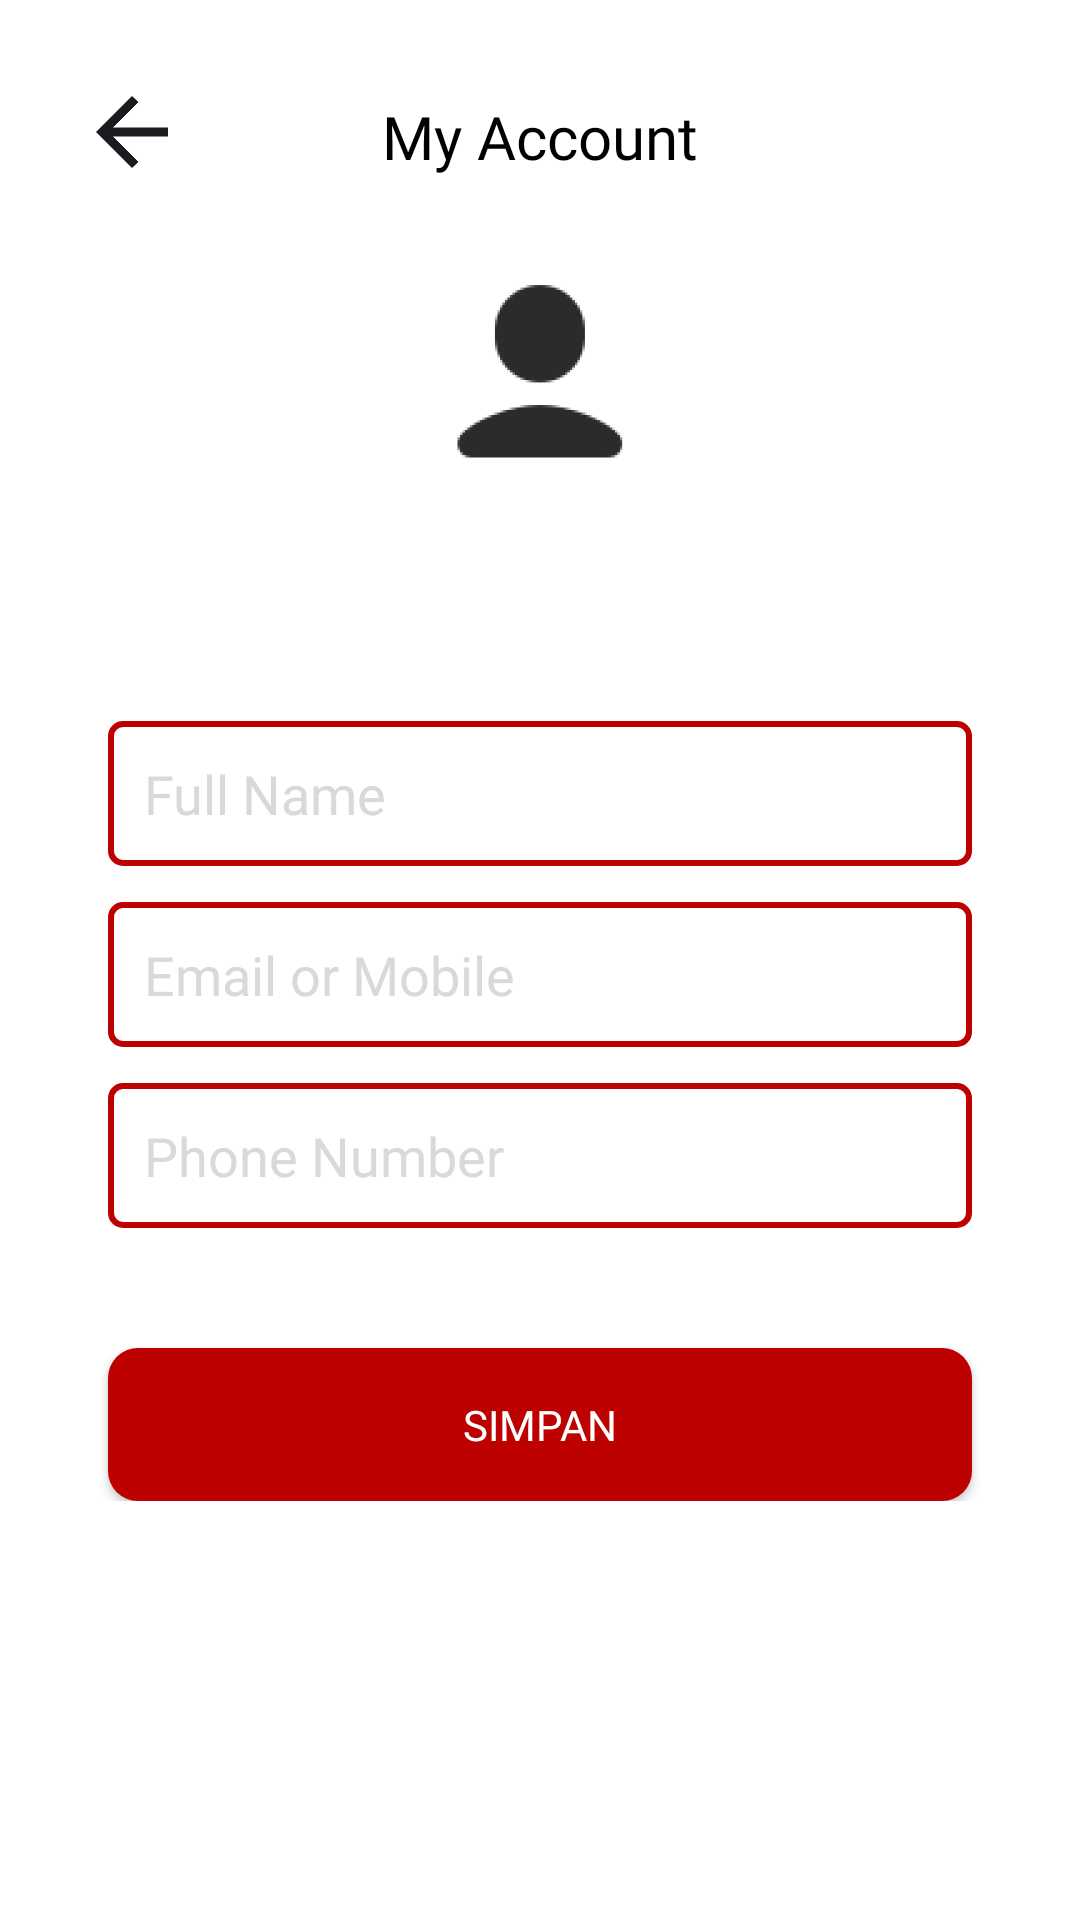

Icons on this 1080px×1920px Android screen, each with its box as (x1, y1, x2, y2):
Back button: (96, 96, 168, 168)
Profile Image: (457, 285, 623, 458)
